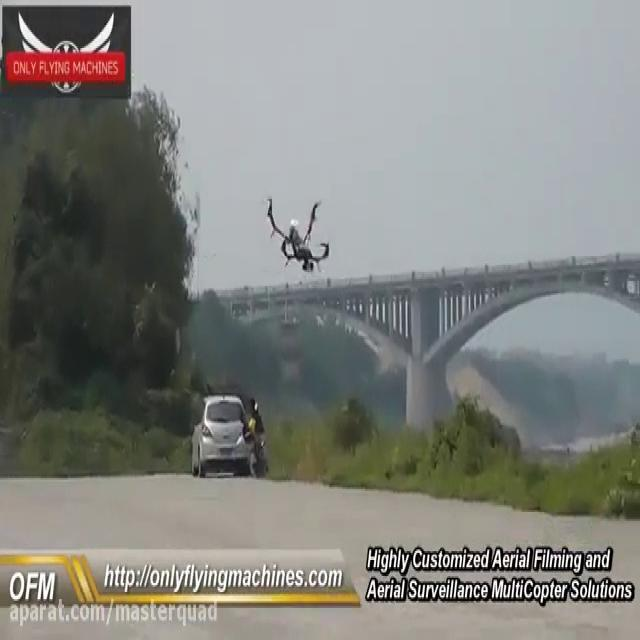drone: (260, 190, 334, 276)
